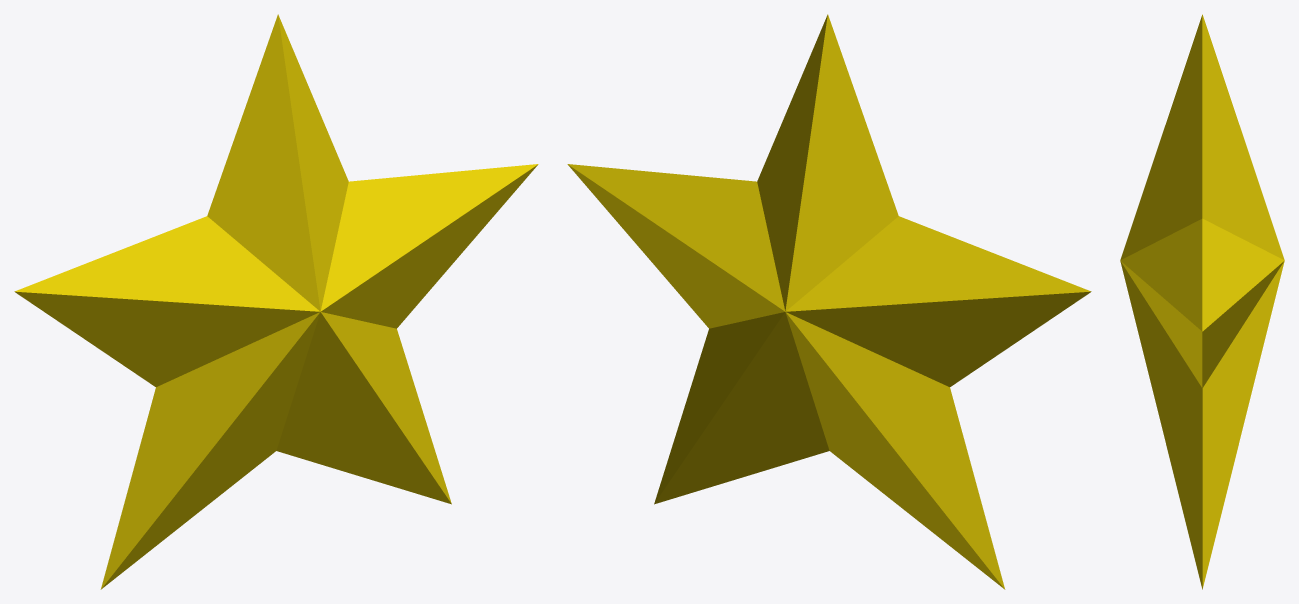
File: star.glb
The picture shows the model from 3 angles, left to right: view 1: azimuth 30°, elevation 25°; view 2: azimuth 150°, elevation 25°; view 3: azimuth 270°, elevation 25°; orthographic projection. The views are drawn at different scales.
Parts seen in each view (by area): view 1: Cone; view 2: Cone; view 3: Cone.
Part boxes in pixels (x1=…): Cone: x1=14, y1=14, x2=538, y2=589; Cone: x1=567, y1=14, x2=1091, y2=589; Cone: x1=1120, y1=14, x2=1284, y2=589.
Bounding box in the file's own units: 6.87 × 6.66 × 2.
